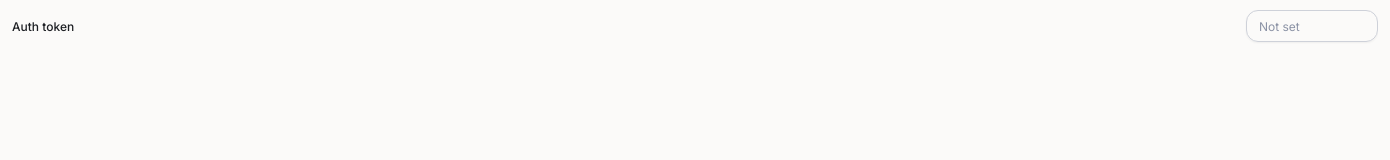
Scenario: the write-only credential row › clears itself afterwards, so the placeholder can speak again
Type "tok_123" into the password field labelled "Auth token" at (1312, 26), box [1246,10,1378,42]
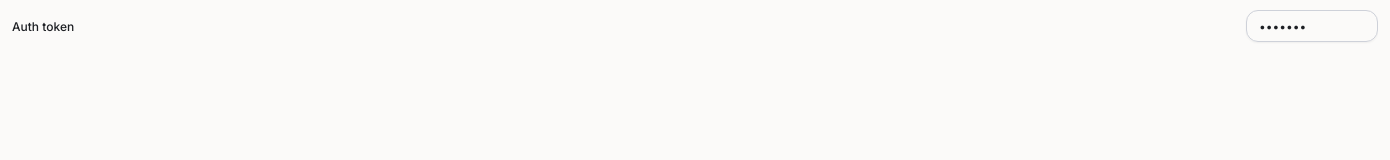
Leave the password field labelled "Auth token", box [1246,10,1378,42]
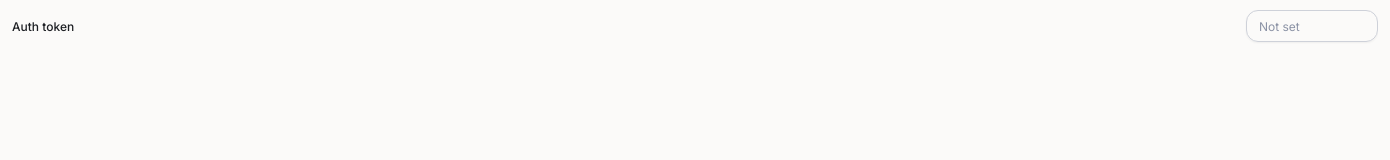
Expected: the password field labelled "Auth token" is empty, [1246,10,1378,42]
